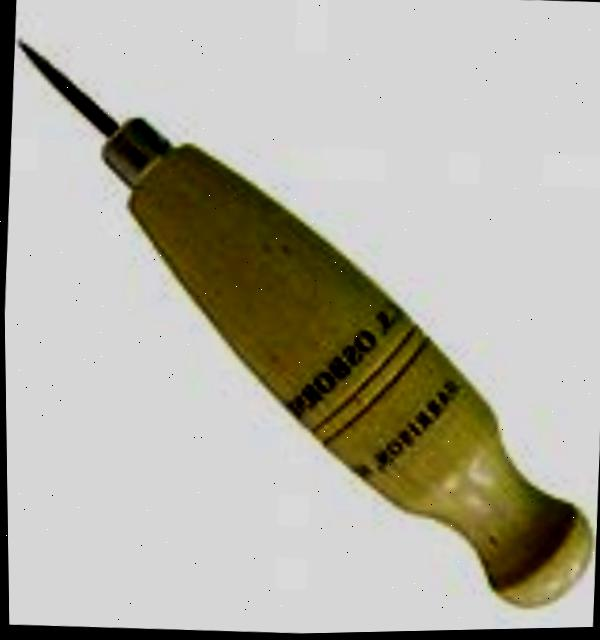ice pick: (1, 34, 600, 623)
